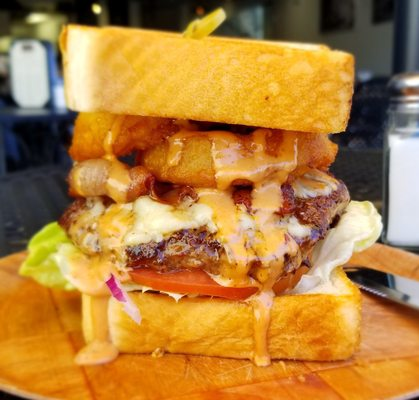sandwich: (345, 266, 419, 313)
soup: (17, 29, 365, 359)
